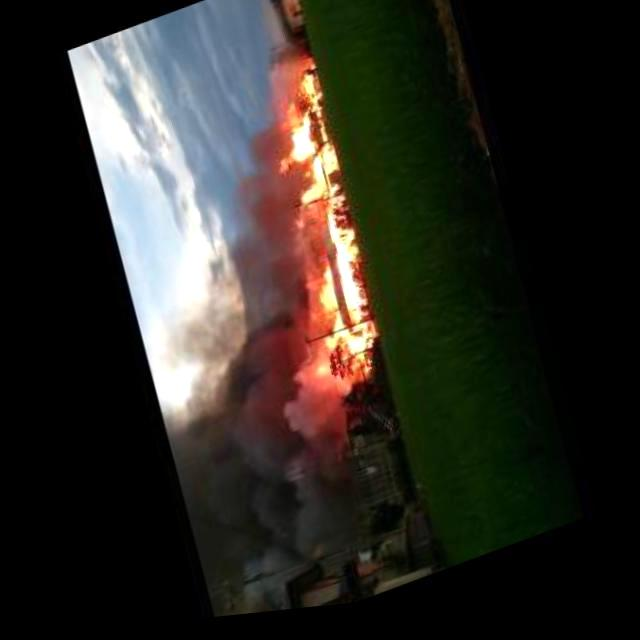fire: (101, 131, 363, 534), (238, 56, 394, 402)
